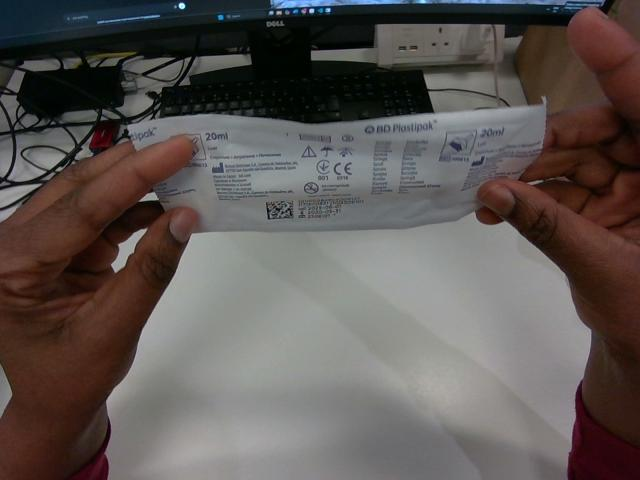syringe: (128, 105, 545, 231)
